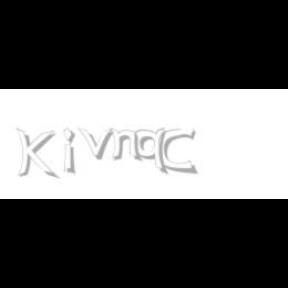C: (159, 128, 196, 174)
K: (15, 128, 55, 180)
i: (63, 128, 79, 176)
n: (109, 128, 143, 162)
q: (134, 128, 170, 176)
v: (77, 128, 117, 160)
